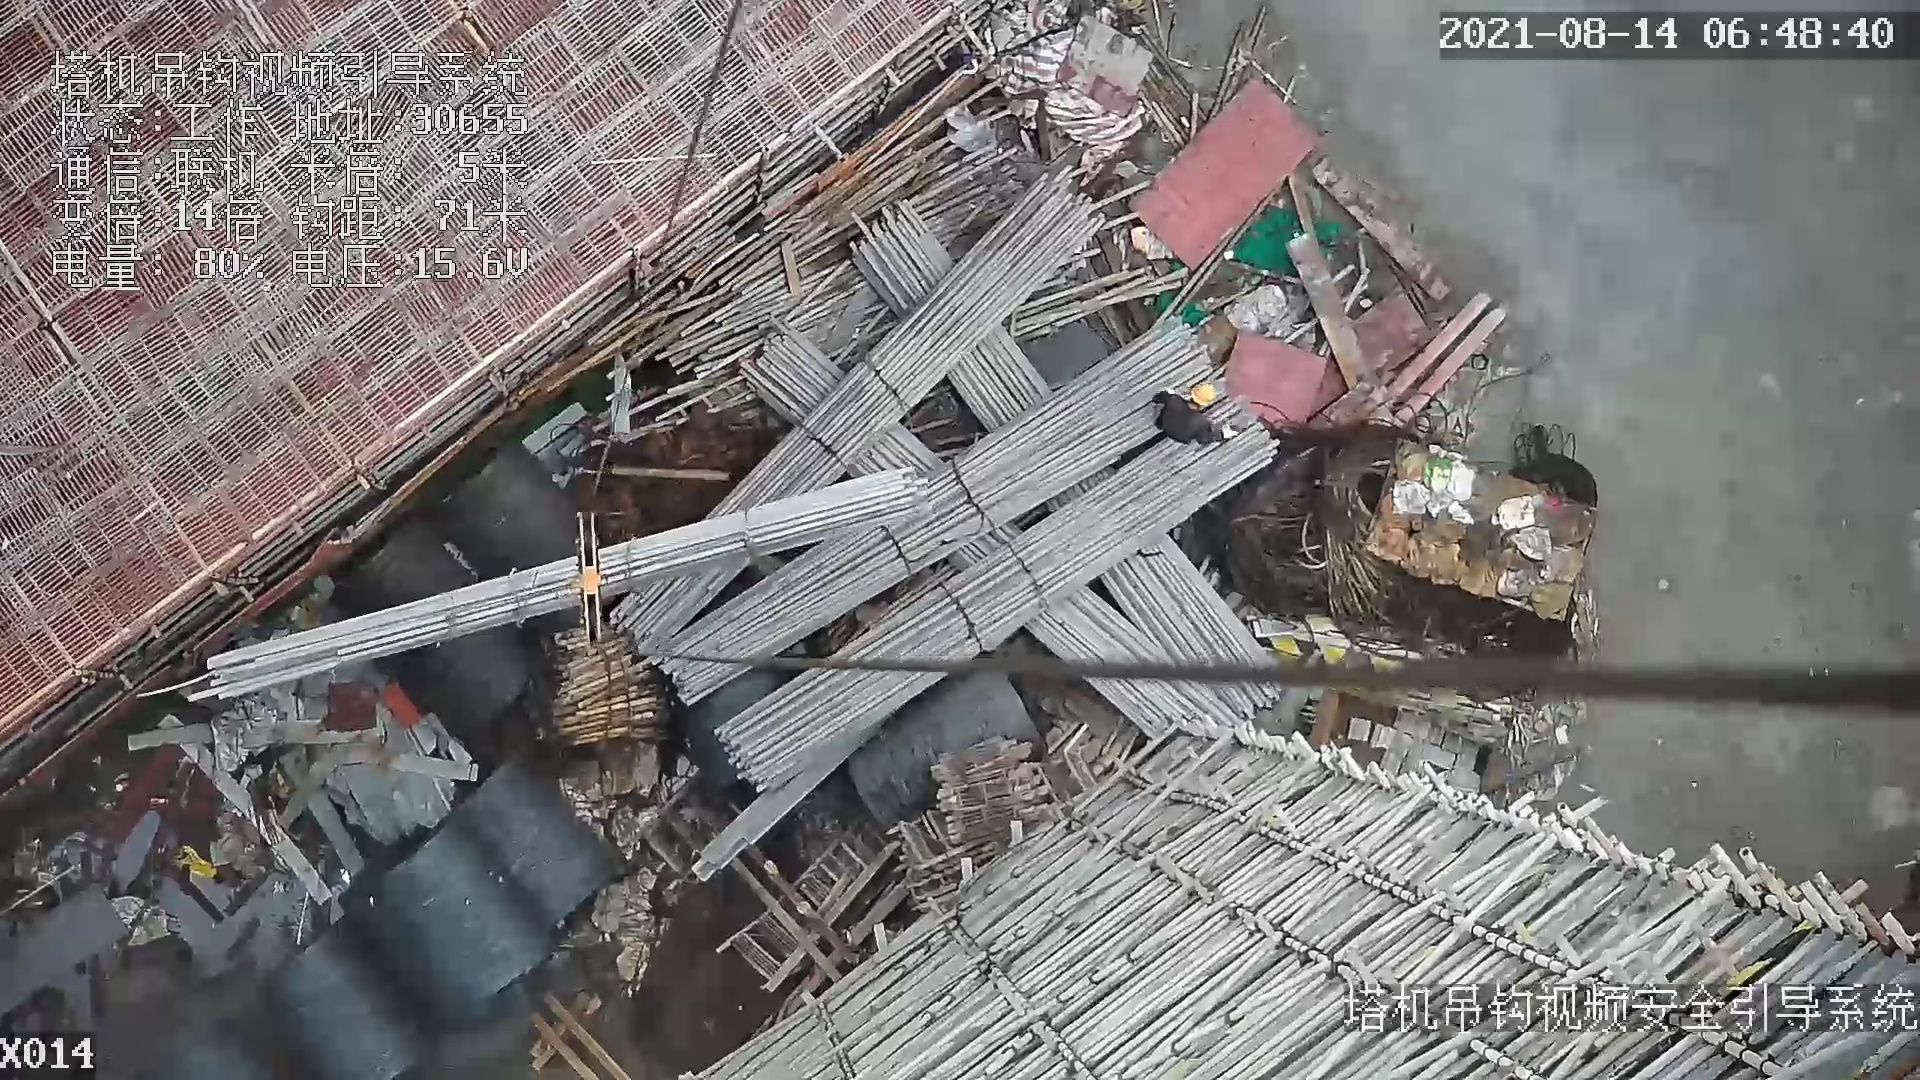board: (1136, 78, 1310, 274)
helmet: (1189, 378, 1217, 404)
hook: (572, 510, 604, 650)
person: (1155, 383, 1241, 460)
scaffold: (549, 635, 666, 745)
